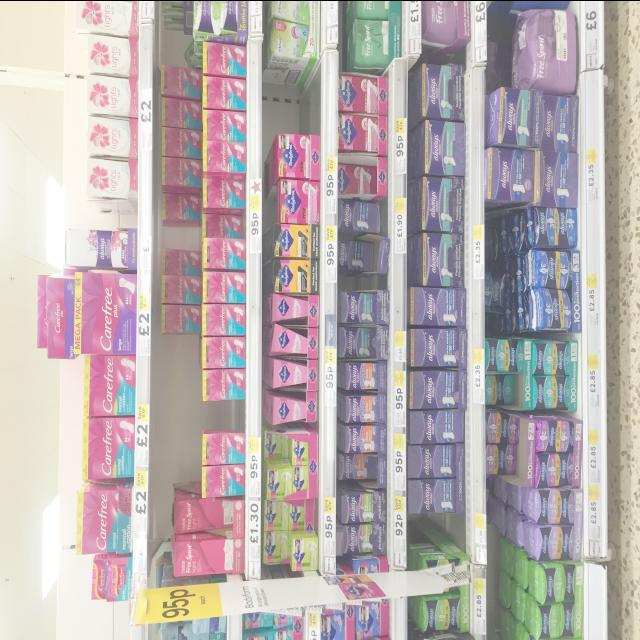empty_space: (277, 82, 311, 124), (197, 404, 239, 428), (420, 514, 454, 538)
